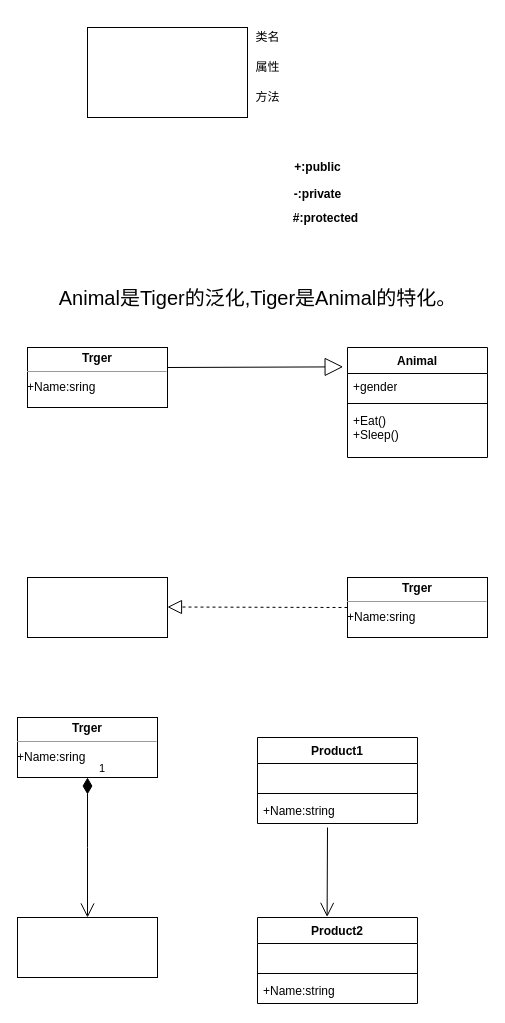
Some shapes in this 505 by 1023 pixel diagram are drawn without their labels. Each missing label, with the centre of its shape:
"IClimb +Clime()" goes at (x=97, y=607).
"Leg +count" goes at (x=87, y=947).
"User + Name:string + GetName(): string" goes at (x=167, y=72).
